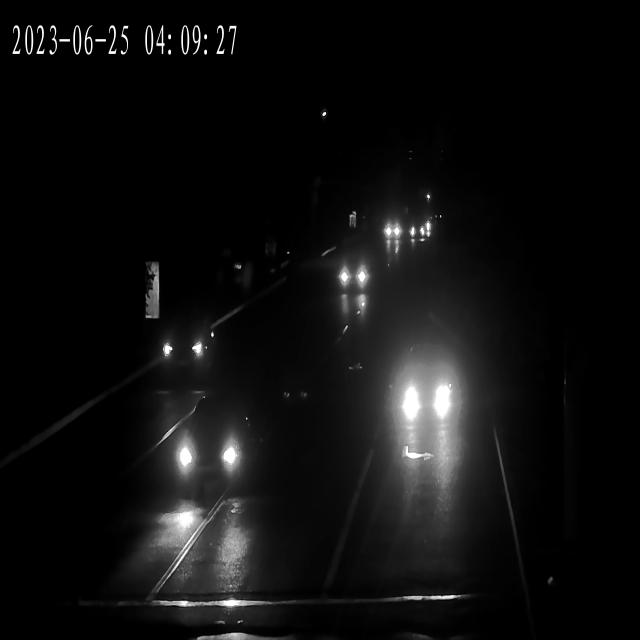Car: (169, 405, 254, 490), (391, 349, 460, 426), (163, 318, 223, 372), (332, 253, 373, 296), (381, 218, 403, 239), (409, 223, 430, 240), (409, 226, 429, 243), (382, 226, 402, 242)
